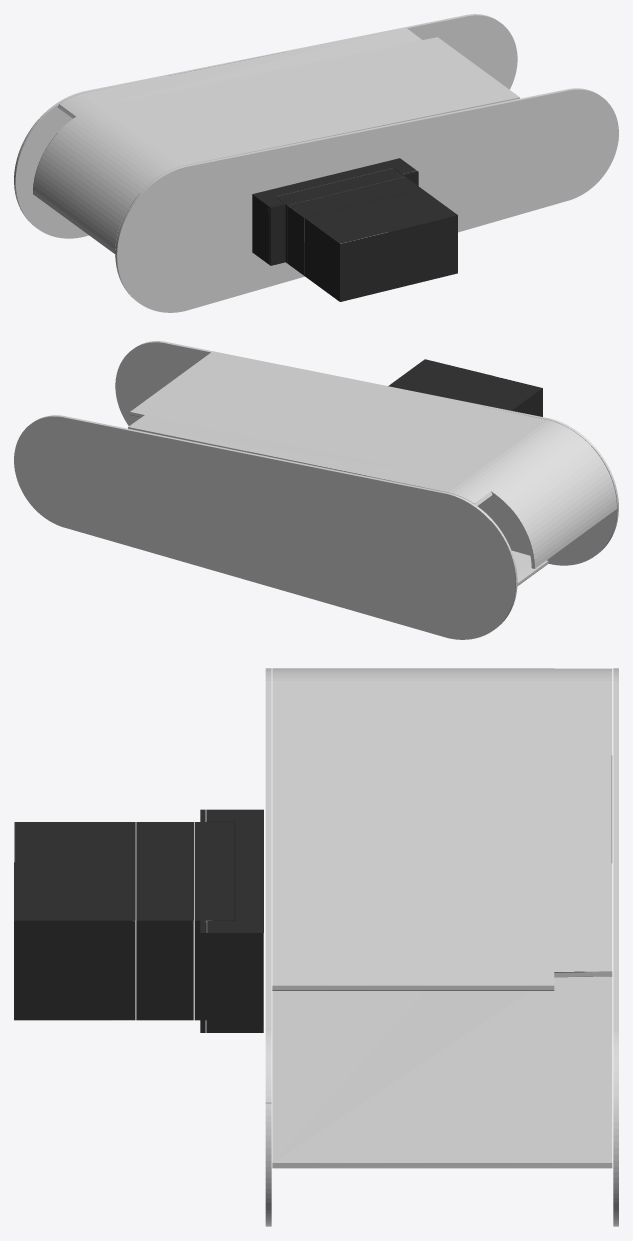
File: TR5_ForeArm.dae
The picture shows the model from 3 angles, top to bottom: view 1: azimuth 30°, elevation 25°; view 2: azimuth 150°, elevation 25°; view 3: azimuth 270°, elevation 25°; orthographic projection. The views are drawn at different scales.
Parts seen in each view (by area): view 1: Forearm; view 2: Forearm; view 3: Forearm.
Boxes of the visible parts, left/top/right/bottom form: Forearm: left=14, top=14, right=618, bottom=312; Forearm: left=14, top=341, right=618, bottom=639; Forearm: left=14, top=668, right=618, bottom=1226.
Size of the model in its own units: 0.1715 by 0.1045 by 0.047.
2 materials, 2 textured.
